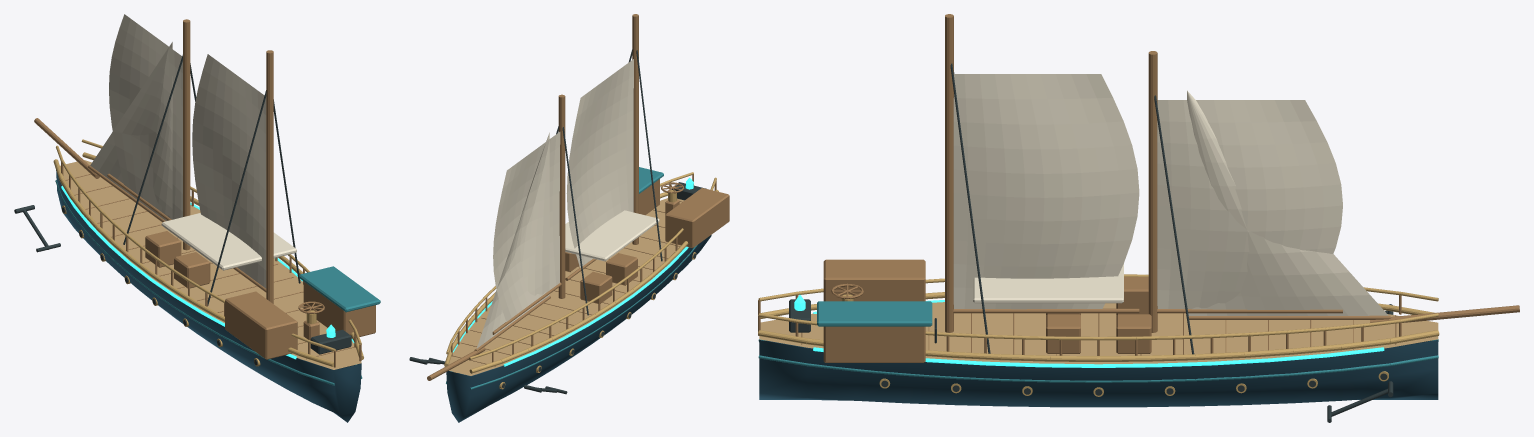
File: premium_imperial_yacht.glb
3 views of the same model, side by side, from view 1: azimuth 30°, elevation 25°; view 2: azimuth 150°, elevation 25°; view 3: azimuth 270°, elevation 25° (orthographic). The views are drawn at different scales.
Visible parts, largest first — view 1: premium_imperial_yacht; view 2: premium_imperial_yacht; view 3: premium_imperial_yacht.
Boxes of the visible parts, x1,y1,x2,y2 form: premium_imperial_yacht: [14, 14, 380, 422]; premium_imperial_yacht: [409, 14, 729, 422]; premium_imperial_yacht: [758, 14, 1519, 422].
Size of the model in its own units: 4.34 by 8.43 by 15.15.
